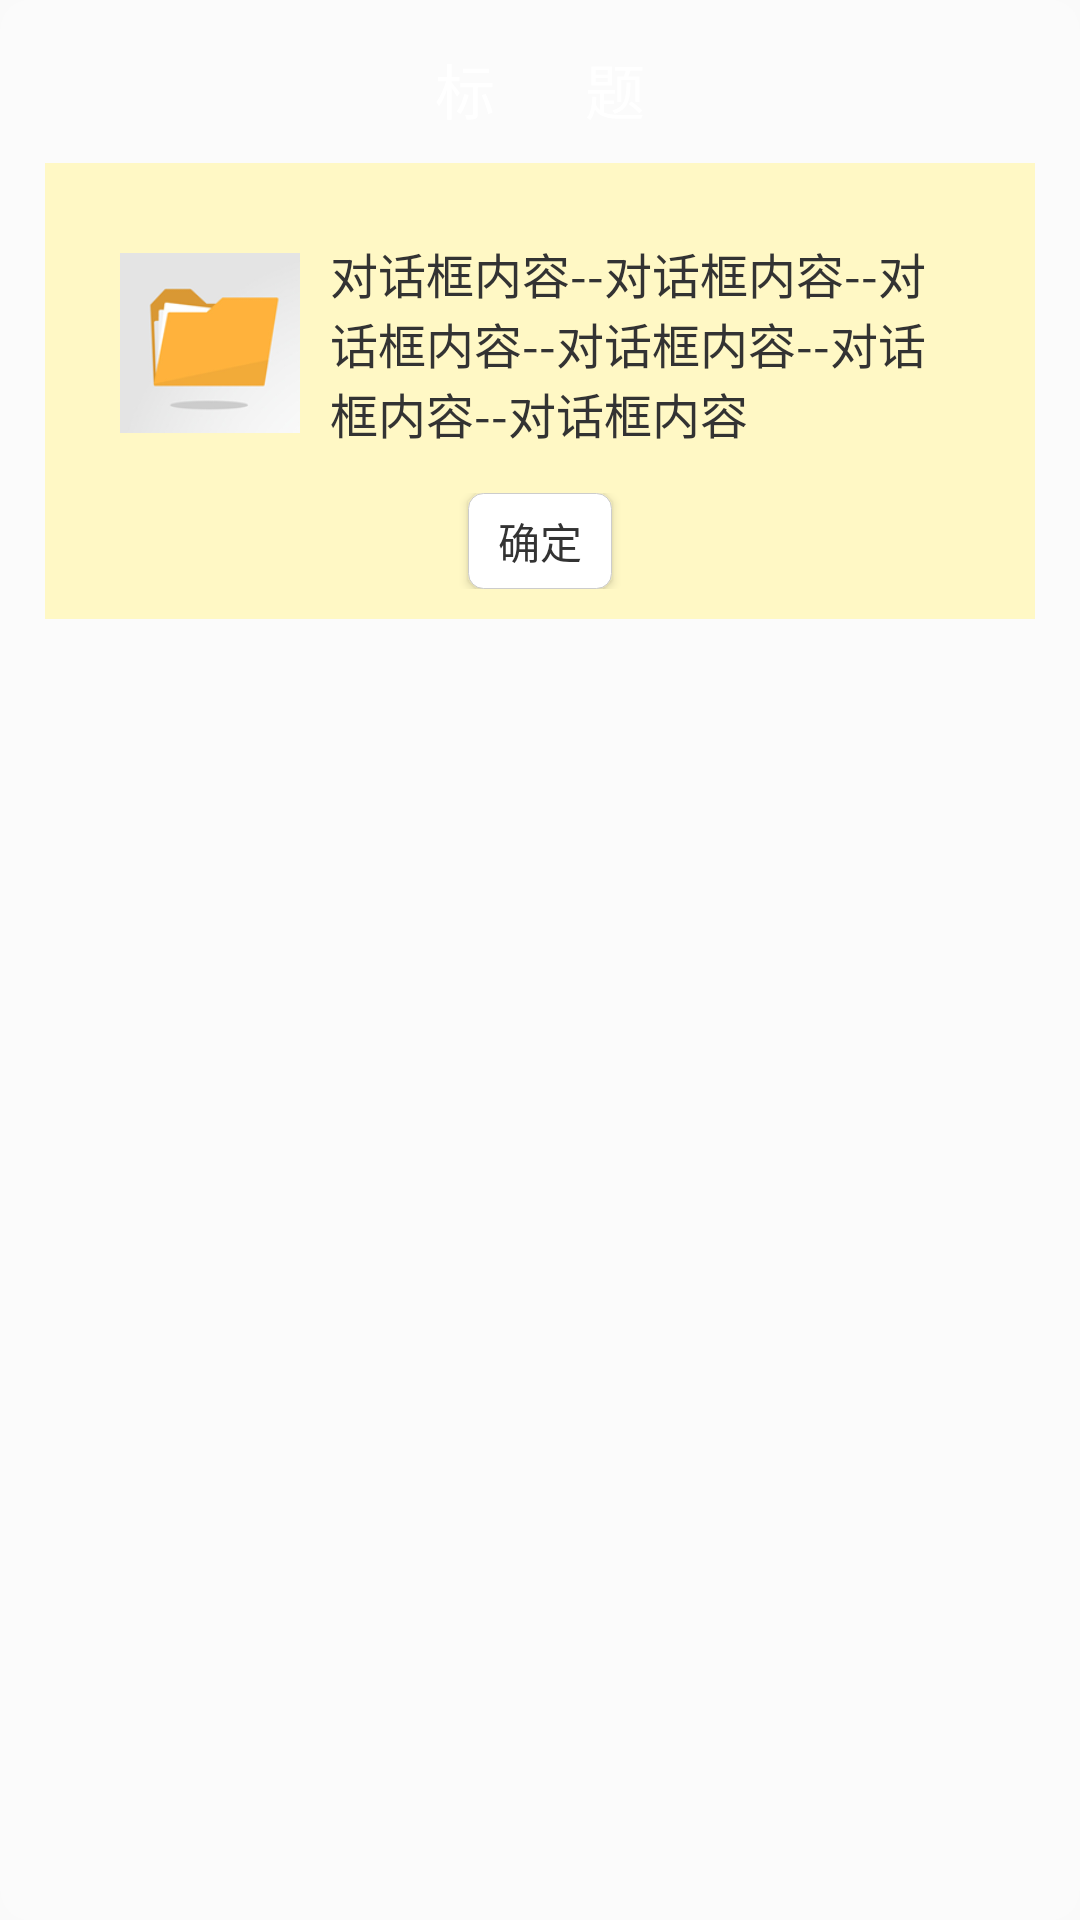

Point at icon controls on the screen. Image size 1080w x 1920h, points as point (x, y).
file: point (210, 343)
